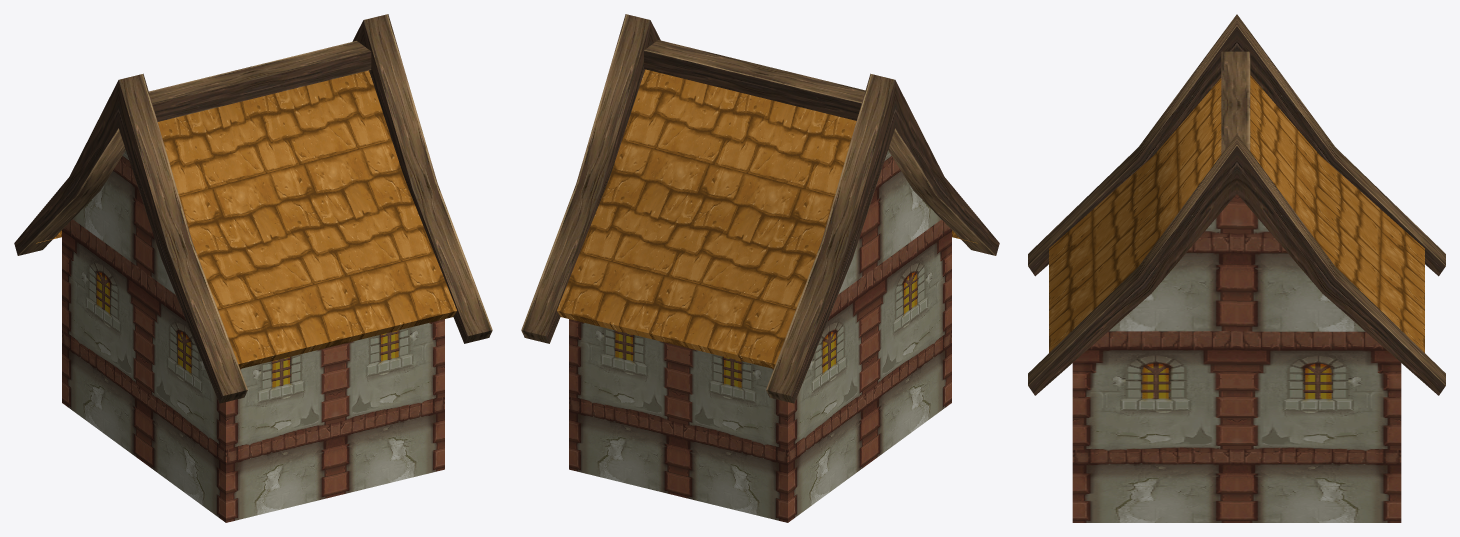
File: Battle04_Building_03.FBX
3 views of the same model, side by side, from view 1: azimuth 30°, elevation 25°; view 2: azimuth 150°, elevation 25°; view 3: azimuth 270°, elevation 25° (orthographic).
Parts seen in each view (by area): view 1: Battle04_Building_03_02, Battle04_Building_03_01, Battle04_Building_03_03; view 2: Battle04_Building_03_02, Battle04_Building_03_01, Battle04_Building_03_03; view 3: Battle04_Building_03_02, Battle04_Building_03_01, Battle04_Building_03_03.
Boxes of the visible parts, x1,y1,x2,y2 form: Battle04_Building_03_02: [62, 150, 444, 522]; Battle04_Building_03_01: [36, 70, 456, 368]; Battle04_Building_03_03: [14, 14, 492, 403]; Battle04_Building_03_02: [569, 150, 951, 522]; Battle04_Building_03_01: [557, 69, 977, 368]; Battle04_Building_03_03: [521, 14, 999, 403]; Battle04_Building_03_02: [1072, 194, 1401, 522]; Battle04_Building_03_01: [1049, 75, 1424, 352]; Battle04_Building_03_03: [1028, 14, 1445, 395].
Size of the model in its own units: 7.93 by 10.94 by 10.63.
